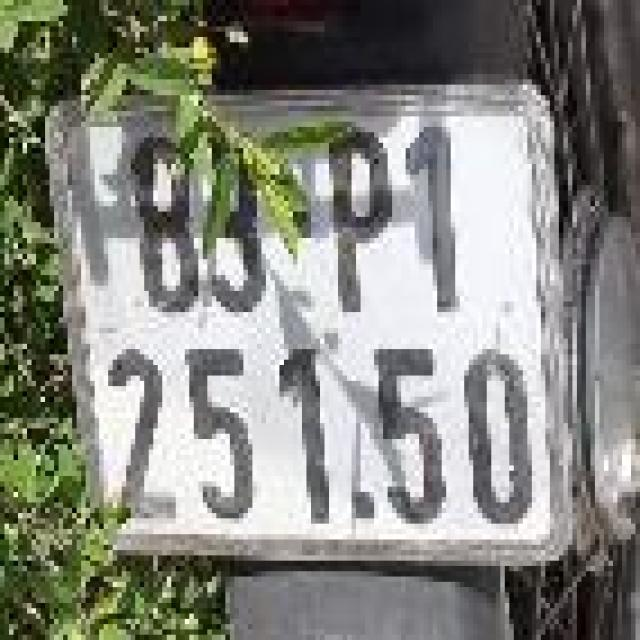0: (460, 333, 527, 540)
1: (266, 333, 347, 534), (408, 116, 471, 318)
2: (83, 333, 178, 534)
3: (207, 127, 275, 312)
5: (360, 336, 450, 537), (182, 325, 264, 537)
8: (120, 127, 210, 317)
P: (313, 106, 390, 312)
